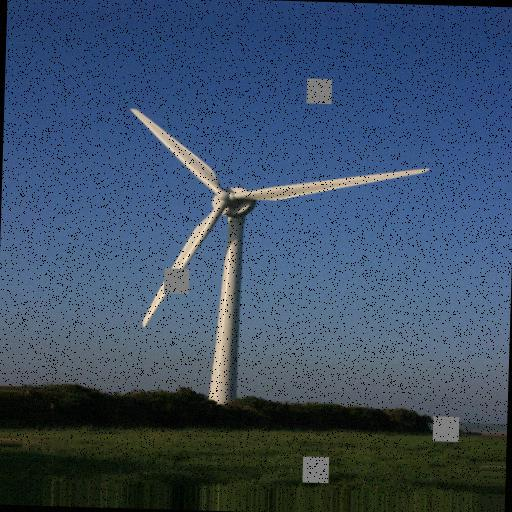wind turbine: (131, 105, 431, 408)
